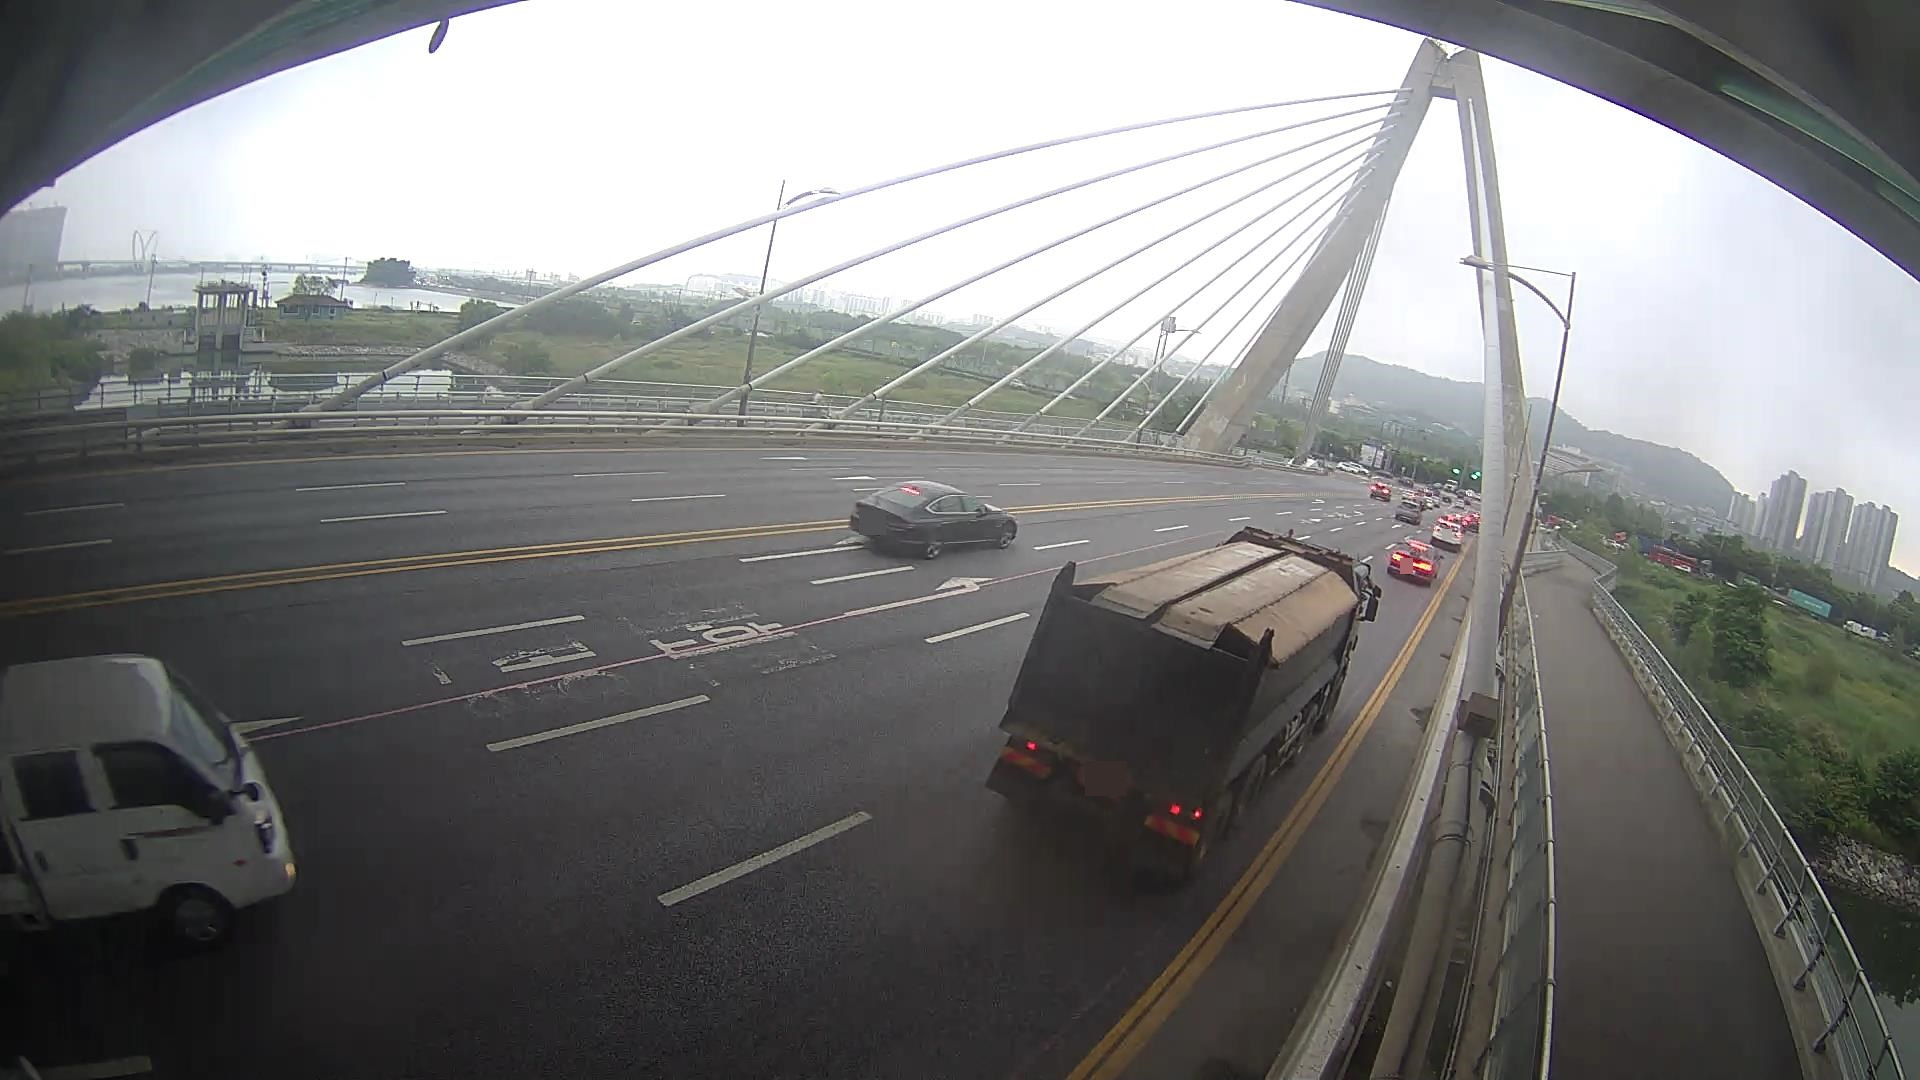정상차량: (985, 526, 1382, 888)
